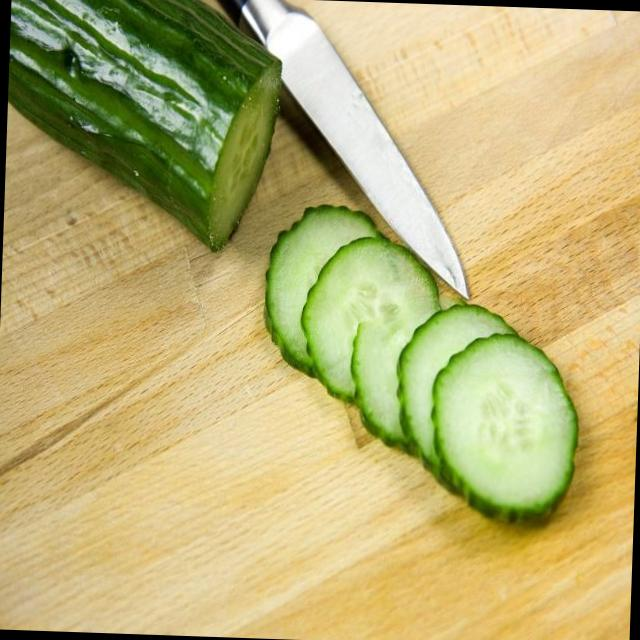Knife: (237, 0, 467, 297)
